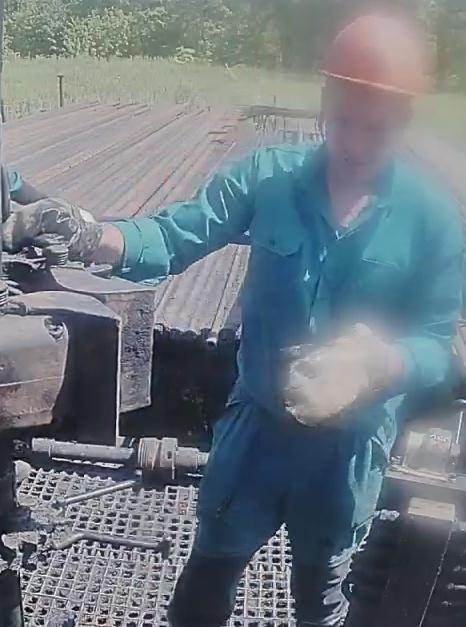gloves: (276, 318, 416, 433), (0, 197, 110, 269)
helmet: (313, 12, 436, 106)
vest: (220, 143, 466, 448)
